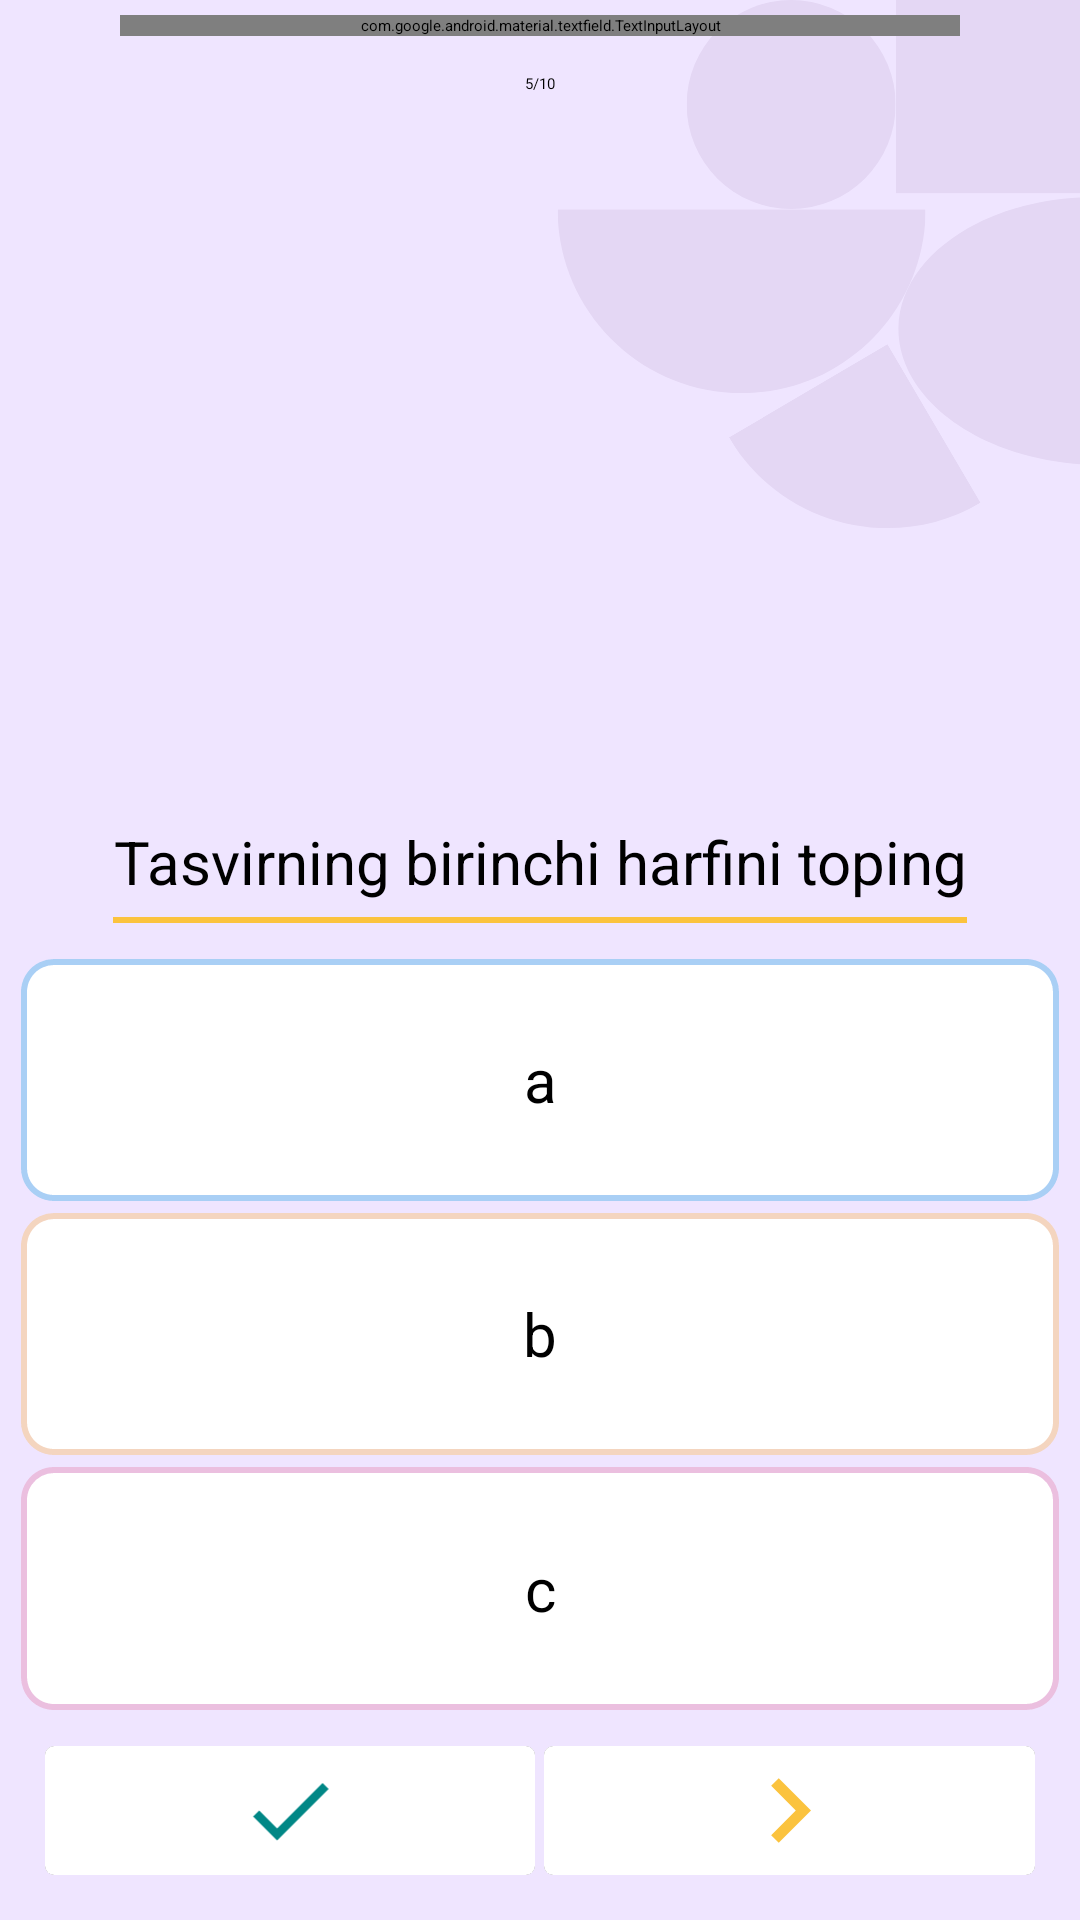

Named icons in this screenshot (1080w x 1920h) and their bounding boxes, (x1, y1, x2, y2):
enter: (253, 1783, 329, 1841)
next: (771, 1778, 811, 1843)
